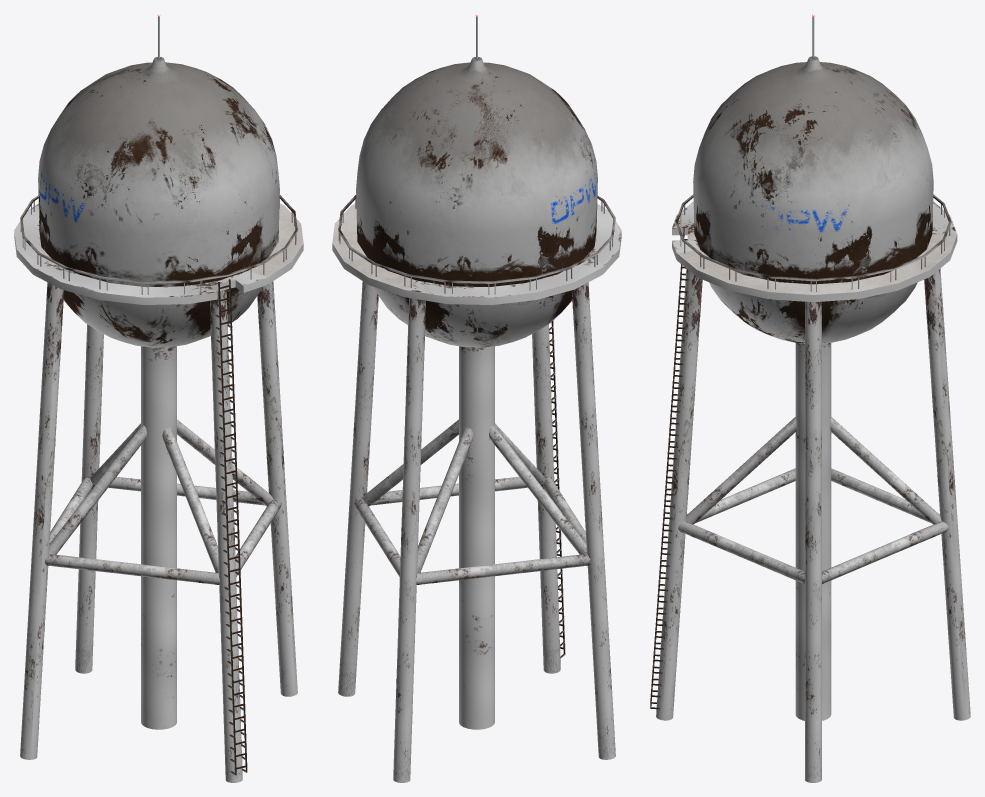
3 renders of one model, left to right at view 1: azimuth 30°, elevation 25°; view 2: azimuth 150°, elevation 25°; view 3: azimuth 270°, elevation 25°, orthographic.
Visible parts, largest first — view 1: g; view 2: g; view 3: g.
Boxes of the visible parts, x1,y1,x2,y2 form: g: (14, 14, 303, 782); g: (332, 14, 621, 782); g: (650, 14, 970, 782).
Bounding box in the file's own units: 0.8114 × 2 × 0.8265.
Materials: 1 (1 with a texture image).
